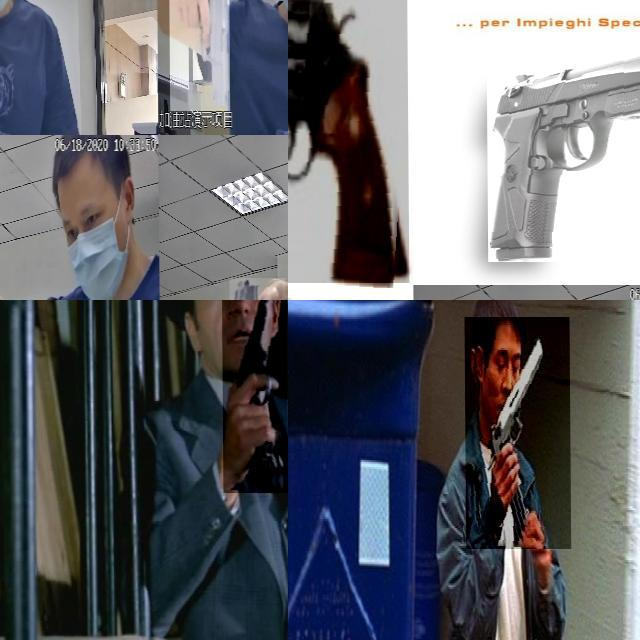gun-knife-thesis - v11 Yolov5 augmented: (288, 0, 446, 283), (486, 31, 640, 261), (464, 317, 570, 549), (221, 300, 287, 492), (169, 0, 230, 111), (0, 0, 38, 135)
